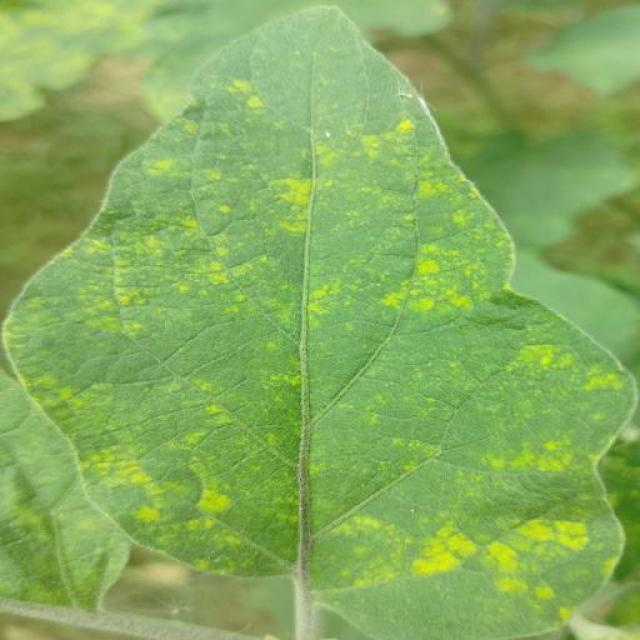leaf_spot: (41, 181, 340, 341), (404, 511, 580, 640), (8, 433, 110, 618), (4, 301, 116, 464), (314, 488, 435, 638), (79, 436, 196, 568), (152, 366, 334, 450), (390, 207, 502, 319), (4, 7, 162, 76), (377, 130, 482, 230), (330, 216, 418, 333), (466, 377, 588, 445), (478, 432, 608, 492), (389, 356, 474, 429), (504, 502, 600, 564), (335, 95, 418, 165), (330, 145, 388, 236), (264, 168, 326, 248), (142, 146, 237, 198), (185, 474, 243, 558), (496, 332, 582, 382), (549, 360, 639, 404), (0, 45, 44, 134), (222, 66, 272, 128), (299, 115, 339, 176), (297, 452, 343, 479), (390, 434, 441, 458), (363, 402, 385, 436), (398, 452, 427, 476), (334, 394, 352, 416)
